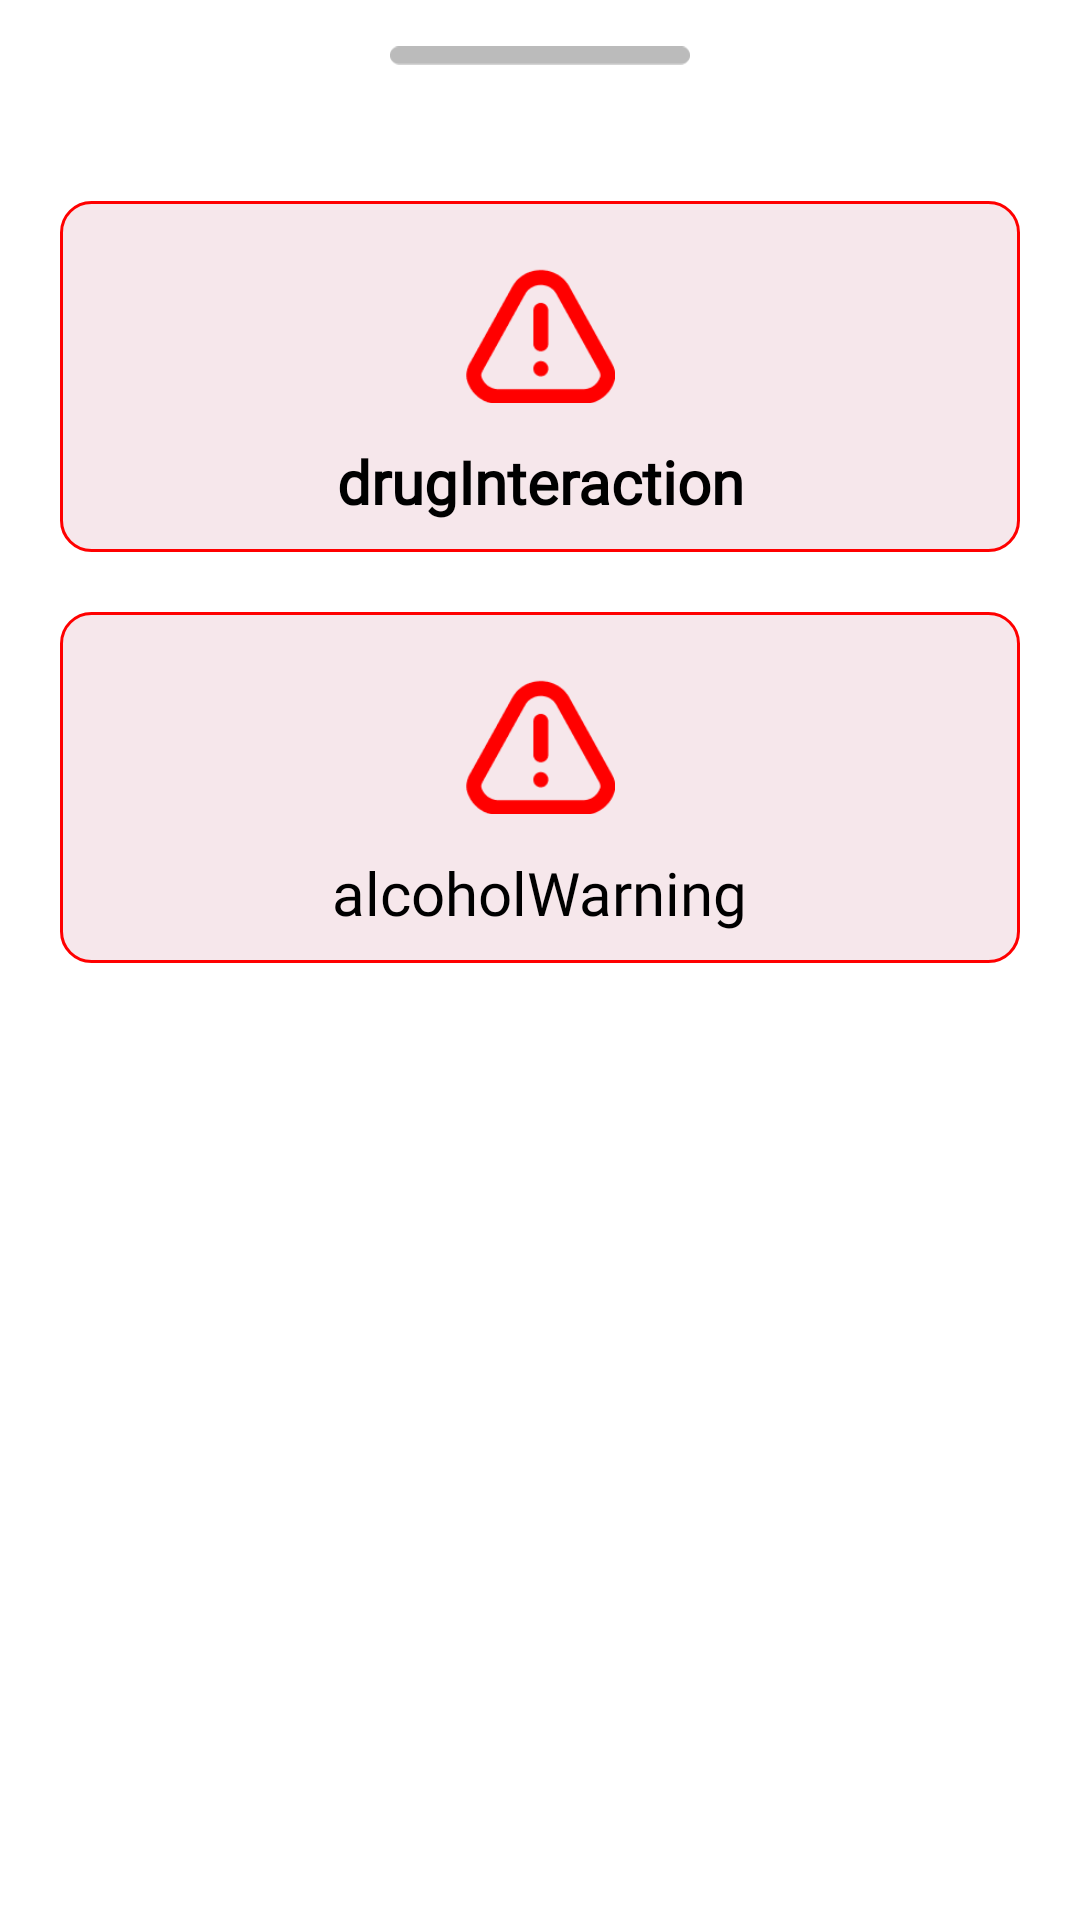

Icons on this 1080 x 1920 Android screen, each with its box as bbox=[x1, y1, x2, y2]:
alert triangle: bbox=[466, 269, 615, 403], bbox=[466, 680, 615, 814]
